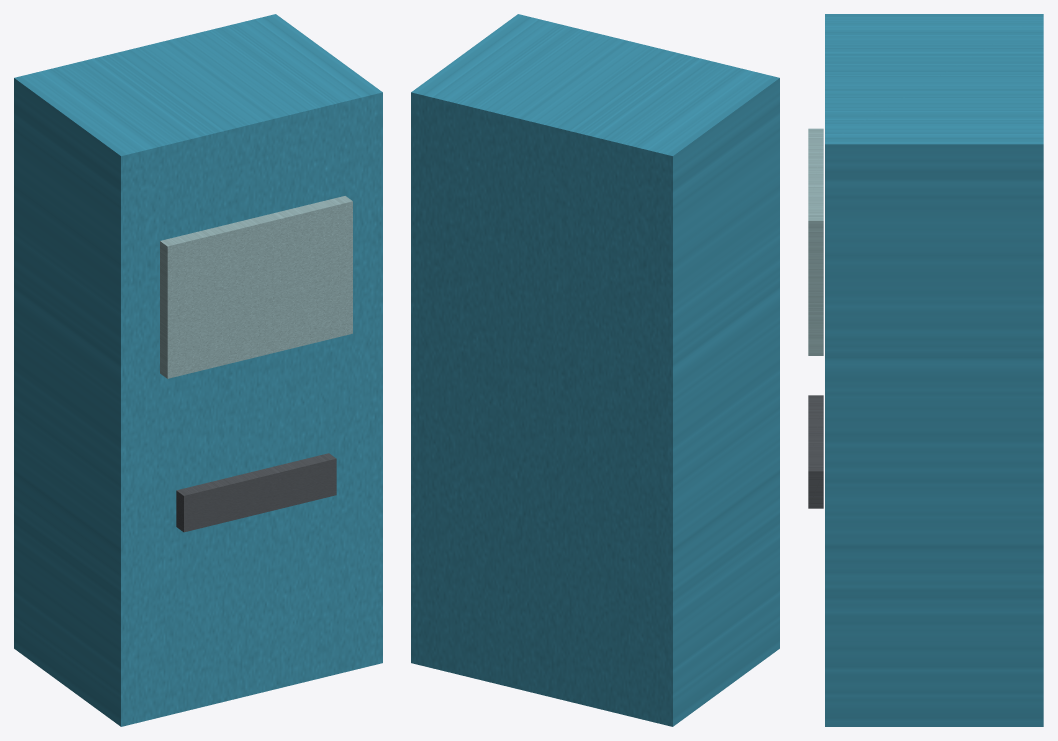
The model's file is atm_kiosk_lod1.glb.
3 renders of one model, left to right at view 1: azimuth 30°, elevation 25°; view 2: azimuth 150°, elevation 25°; view 3: azimuth 270°, elevation 25°, orthographic. The views are drawn at different scales.
Visible parts, largest first — view 1: world; view 2: world; view 3: world.
Boxes of the visible parts, left/top/right/bottom form: world: left=14, top=14, right=382, bottom=726; world: left=411, top=14, right=779, bottom=726; world: left=808, top=14, right=1043, bottom=726.
Bounding box in the file's own units: 1.2 × 2.5 × 0.915.
Materials: 3 (3 with a texture image).
